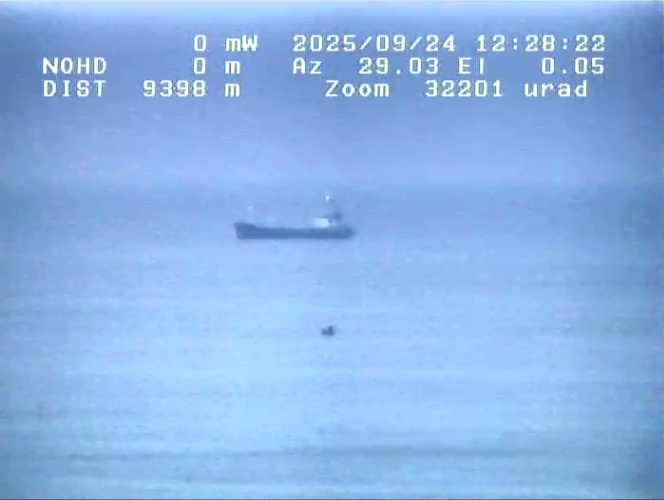TANKER: (220, 183, 361, 249)
